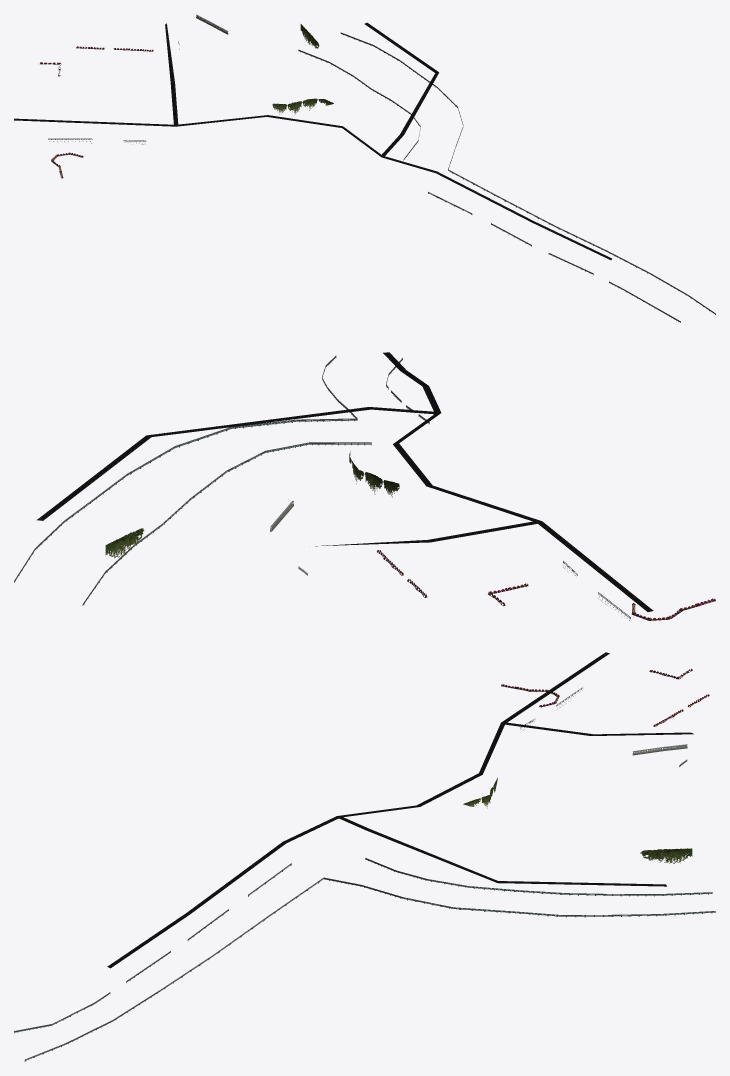
The model's file is ce_telewires03.obj.
3 renders of one model, top to bottom at view 1: azimuth 30°, elevation 25°; view 2: azimuth 150°, elevation 25°; view 3: azimuth 270°, elevation 25°, orthographic. The views are drawn at different scales.
Visible parts, largest first — view 1: CE_telewires03; view 2: CE_telewires03; view 3: CE_telewires03.
Part boxes in pixels (left/top/right/bottom): CE_telewires03: left=14, top=14, right=715, bottom=322; CE_telewires03: left=14, top=352, right=715, bottom=620; CE_telewires03: left=14, top=652, right=715, bottom=1061.
Bounding box in the file's own units: 234 × 75.15 × 265.
